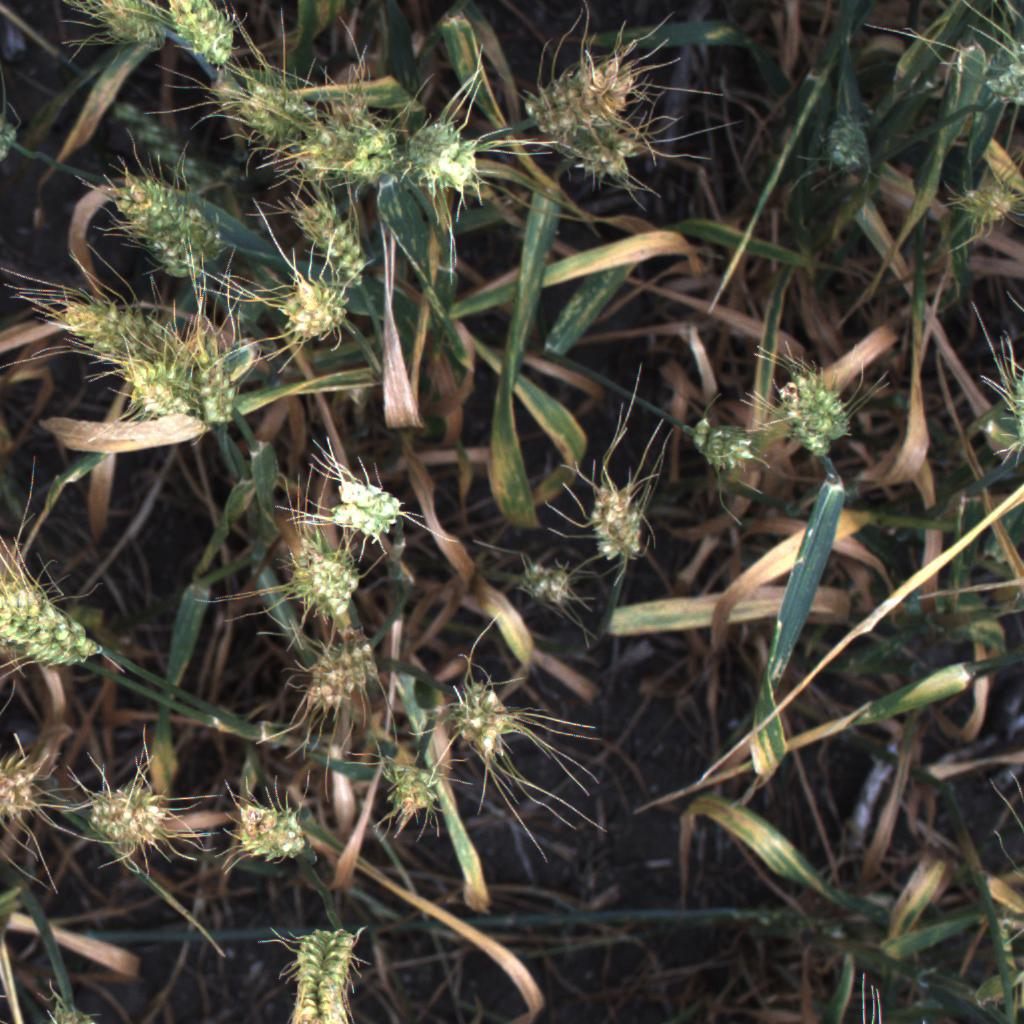0-0: (519, 36, 651, 140), (569, 458, 668, 581), (101, 175, 229, 267), (46, 289, 184, 371), (286, 181, 379, 295), (77, 768, 183, 864), (214, 787, 331, 868), (276, 922, 365, 1024), (772, 358, 858, 460), (358, 0, 458, 87), (811, 90, 884, 207), (536, 116, 668, 180), (269, 262, 359, 355), (229, 75, 327, 155), (436, 669, 520, 762), (1, 579, 101, 655), (292, 637, 385, 717), (370, 741, 456, 827), (286, 541, 377, 622), (103, 352, 202, 426), (154, 0, 253, 72), (670, 407, 767, 480), (324, 467, 410, 543), (410, 119, 488, 202), (191, 340, 253, 437), (0, 607, 87, 674), (940, 171, 1023, 241), (955, 43, 1024, 123), (80, 0, 173, 59), (293, 107, 365, 180), (0, 738, 52, 831), (136, 215, 208, 282), (346, 118, 412, 186), (516, 551, 586, 607), (990, 358, 1024, 456)
